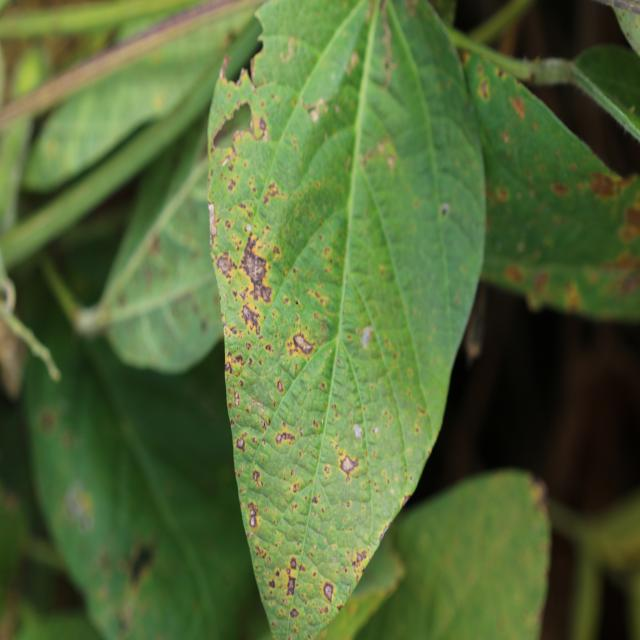Bacterial_Blight: (234, 232, 275, 297), (589, 171, 621, 197), (293, 333, 314, 355), (339, 454, 359, 477), (216, 252, 234, 277), (509, 95, 526, 119), (275, 431, 295, 445), (248, 504, 258, 528), (286, 575, 296, 596)
Soybean: (208, 0, 485, 638)
